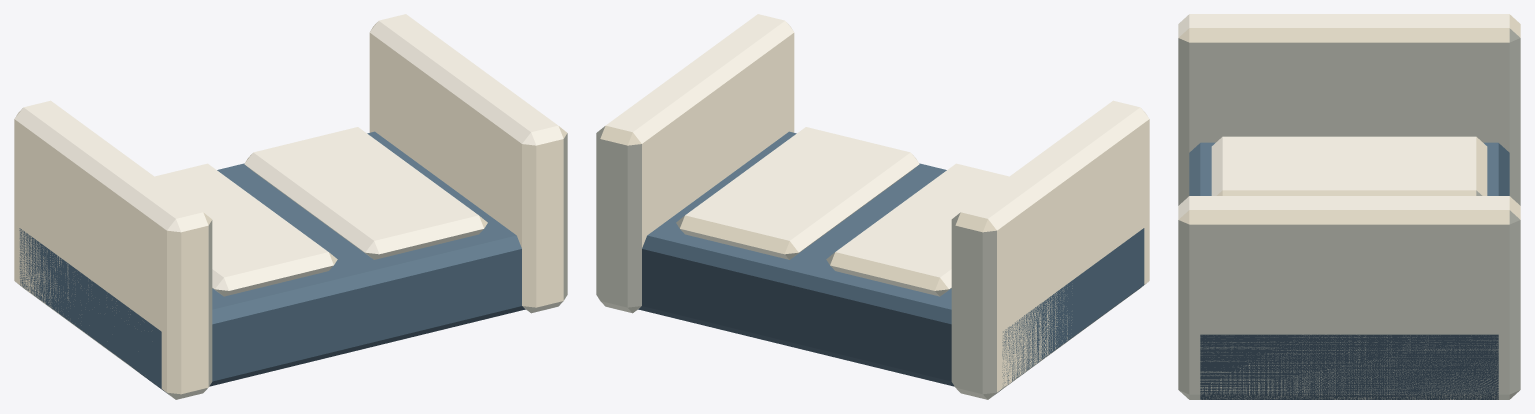
File: Plate_LatchPressed.gltf
3 renders of one model, left to right at view 1: azimuth 30°, elevation 25°; view 2: azimuth 150°, elevation 25°; view 3: azimuth 270°, elevation 25°, orthographic. The views are drawn at different scales.
Parts seen in each view (by area): view 1: Plate_LatchPressed_baked; view 2: Plate_LatchPressed_baked; view 3: Plate_LatchPressed_baked.
Part boxes in pixels (<box>): Plate_LatchPressed_baked: <box>14,14,567,399</box>; Plate_LatchPressed_baked: <box>596,14,1149,399</box>; Plate_LatchPressed_baked: <box>1178,14,1520,399</box>.
Size of the model in its own units: 0.88 by 0.38 by 0.62.
